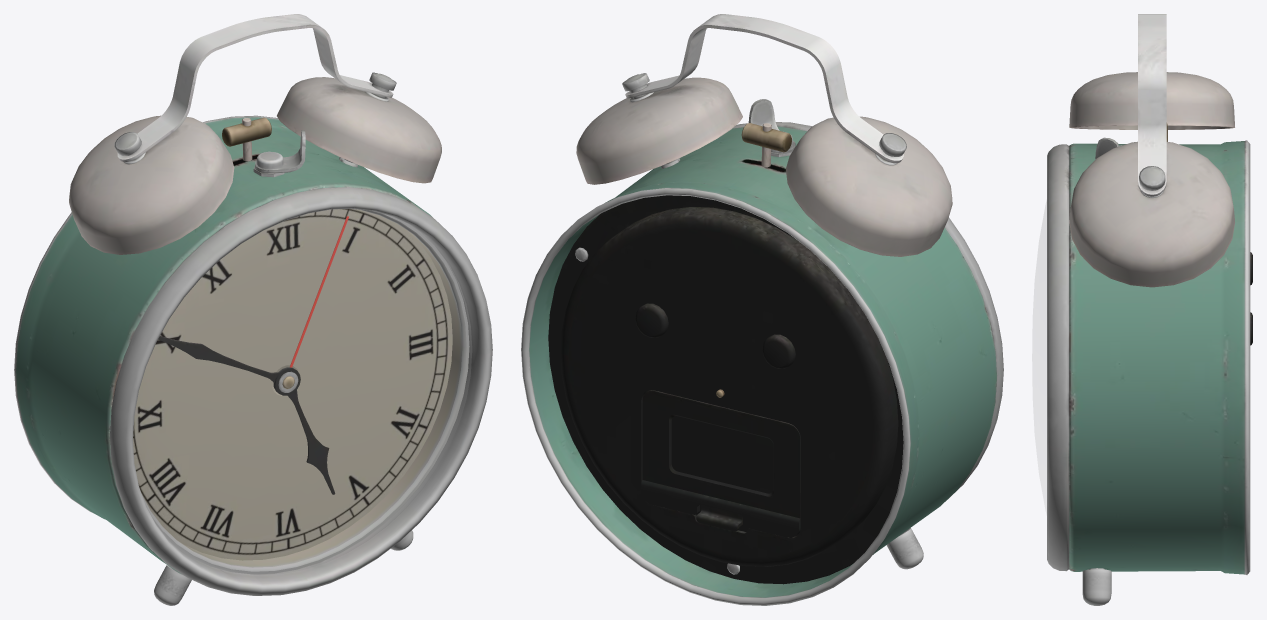
File: ph-alarm-clock.glb
3 renders of one model, left to right at view 1: azimuth 30°, elevation 25°; view 2: azimuth 150°, elevation 25°; view 3: azimuth 270°, elevation 25°, orthographic. The views are drawn at different scales.
Visible parts, largest first — view 1: alarm_clock_01; view 2: alarm_clock_01; view 3: alarm_clock_01.
Part boxes in pixels (left/top/right/bottom): alarm_clock_01: left=14, top=14, right=492, bottom=605; alarm_clock_01: left=521, top=14, right=1003, bottom=605; alarm_clock_01: left=1032, top=14, right=1252, bottom=605.
Bounding box in the file's own units: 0.1317 × 0.1742 × 0.0667.
2 materials, 1 textured.
